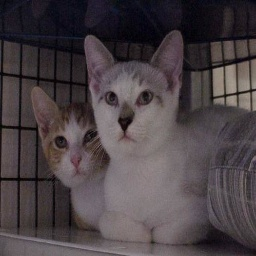cat: (20, 35, 256, 245)
